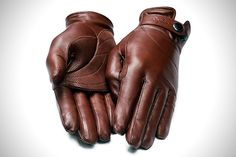gloves: (106, 6, 195, 150), (46, 10, 117, 145)
